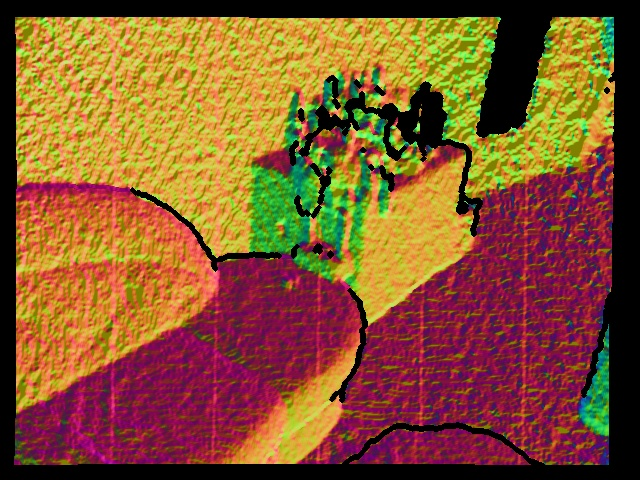station: (291, 201, 353, 284)
